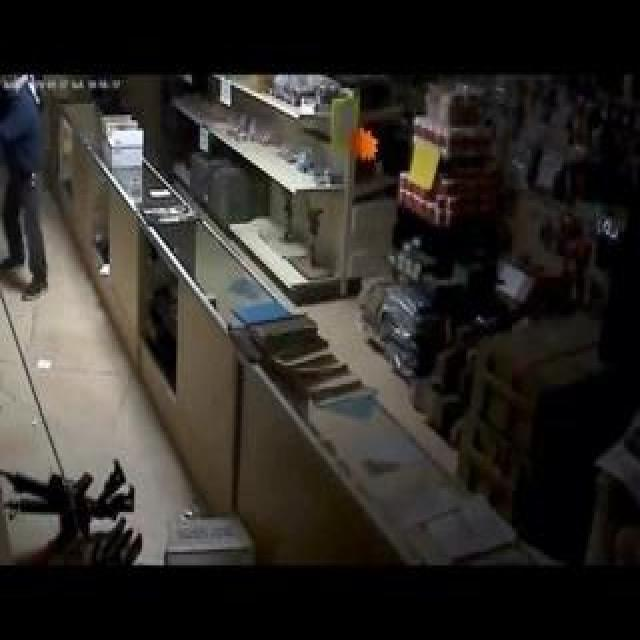thief: (8, 86, 67, 216)
